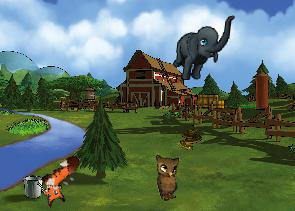elephant: (171, 9, 235, 85)
fox: (31, 152, 93, 210)
owl: (150, 150, 189, 202)
